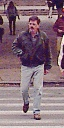person: (13, 17, 53, 116)
